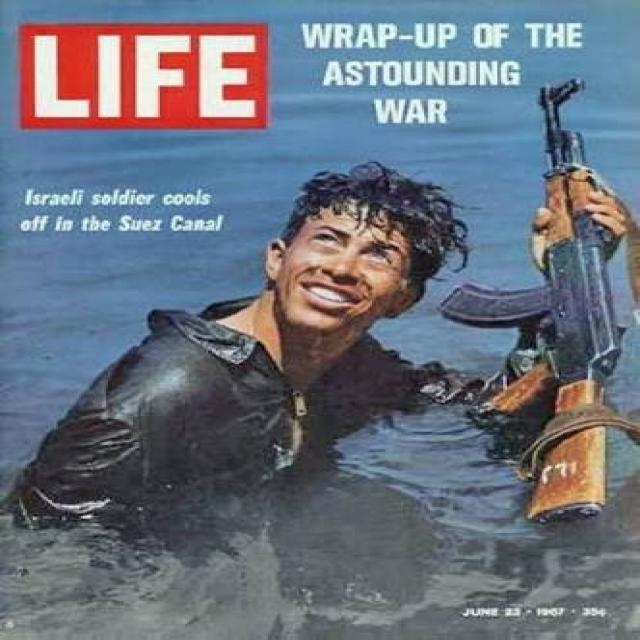ak: (435, 72, 640, 530)
